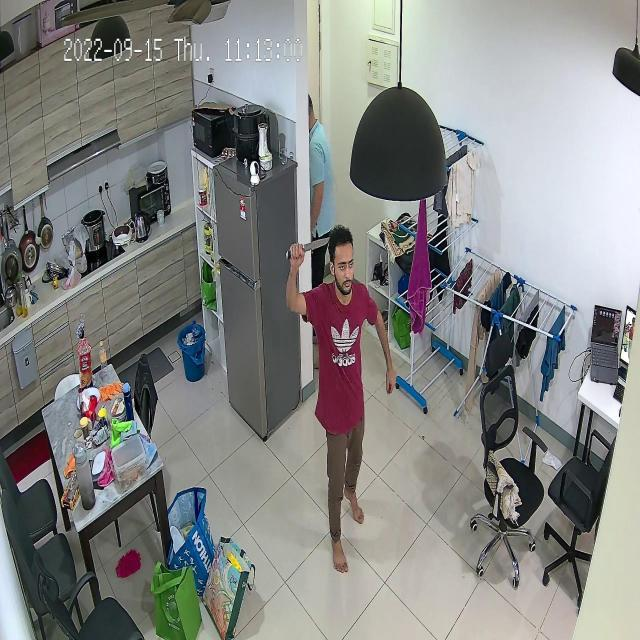Knife: (286, 227, 330, 270)
